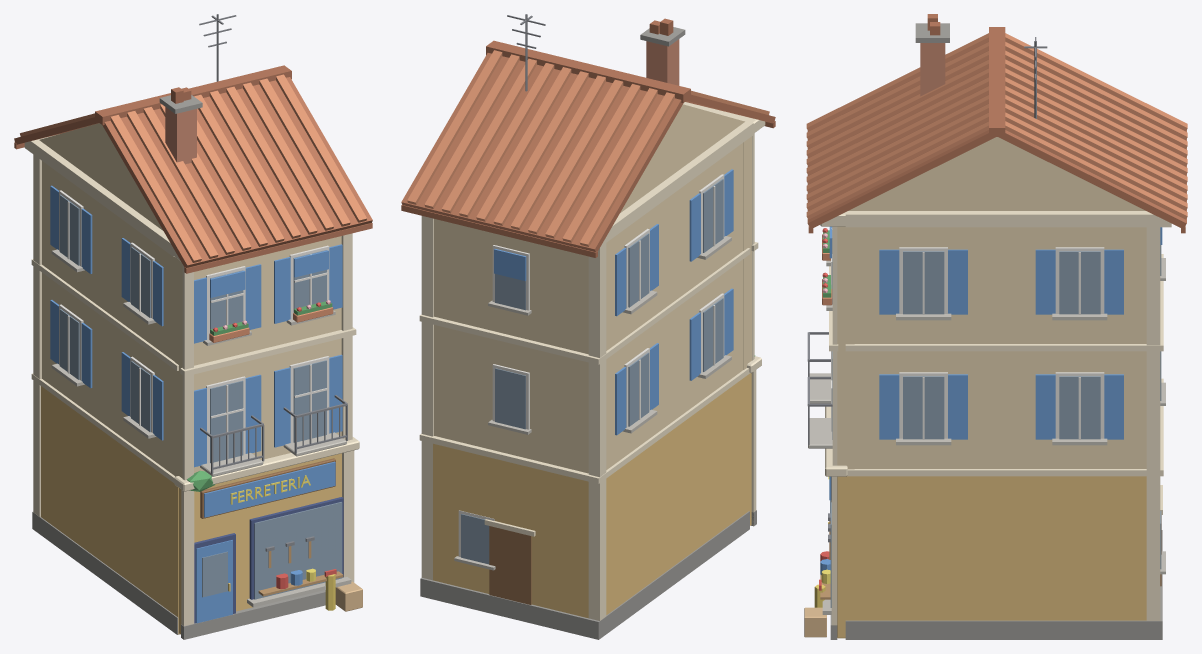
The model's file is env_shop_hardware_01.glb.
3 renders of one model, left to right at view 1: azimuth 30°, elevation 25°; view 2: azimuth 150°, elevation 25°; view 3: azimuth 270°, elevation 25°, orthographic. The views are drawn at different scales.
Parts seen in each view (by area): view 1: env_shop_hardware_01_body; view 2: env_shop_hardware_01_body; view 3: env_shop_hardware_01_body.
Part boxes in pixels (x1,y1,x2,y2): env_shop_hardware_01_body: (14, 14, 372, 639); env_shop_hardware_01_body: (401, 14, 775, 639); env_shop_hardware_01_body: (804, 14, 1187, 639).
Bounding box in the file's own units: 5.2 × 13.82 × 8.35.
